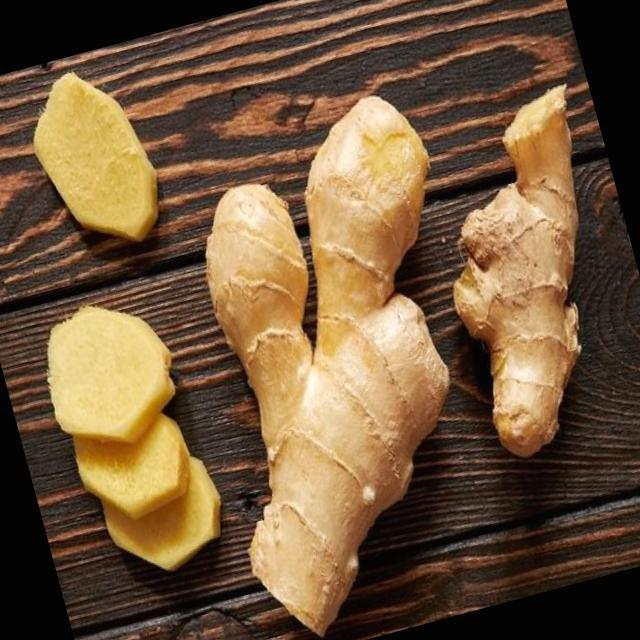ginger-root: (168, 78, 472, 640)
